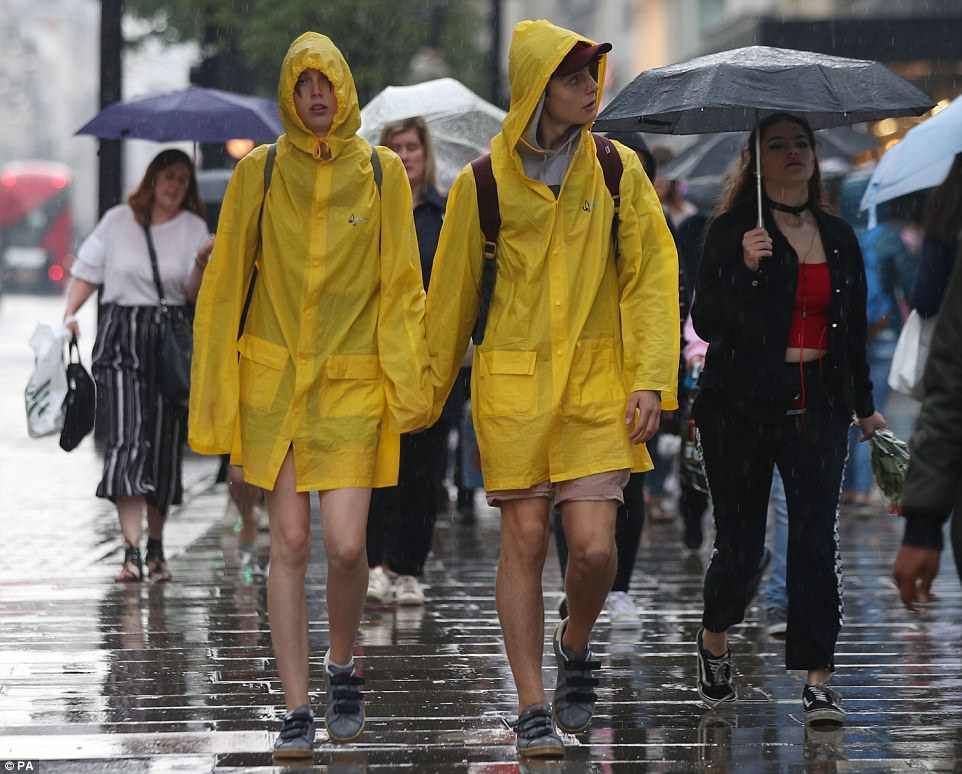person: (207, 34, 401, 763), (691, 113, 883, 723), (63, 149, 213, 587)
